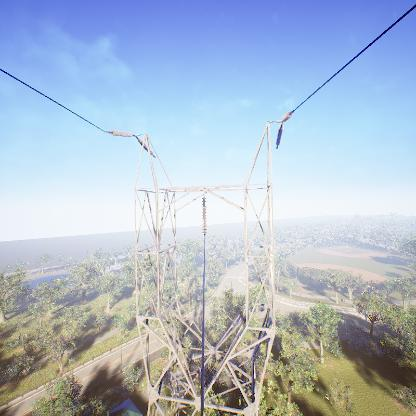insulator: (275, 123, 285, 150), (201, 196, 207, 236), (110, 129, 133, 137), (281, 111, 292, 123)
